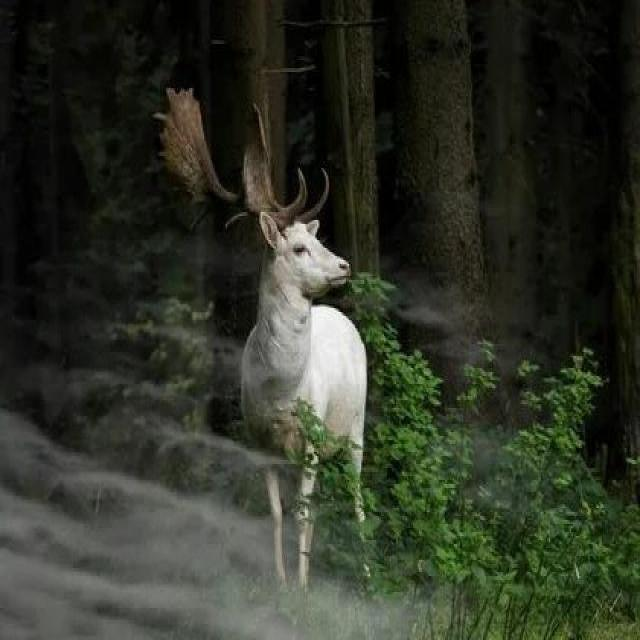deer: (158, 87, 430, 558)
